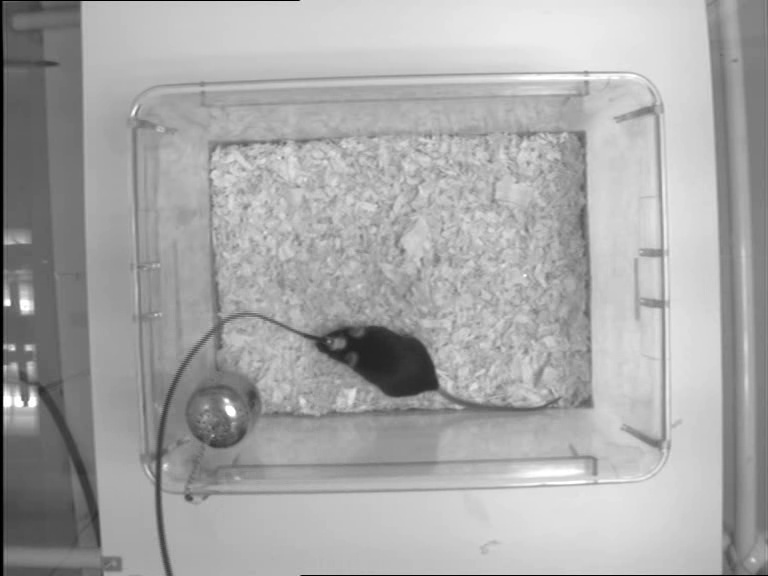mice: (311, 323, 566, 412)
